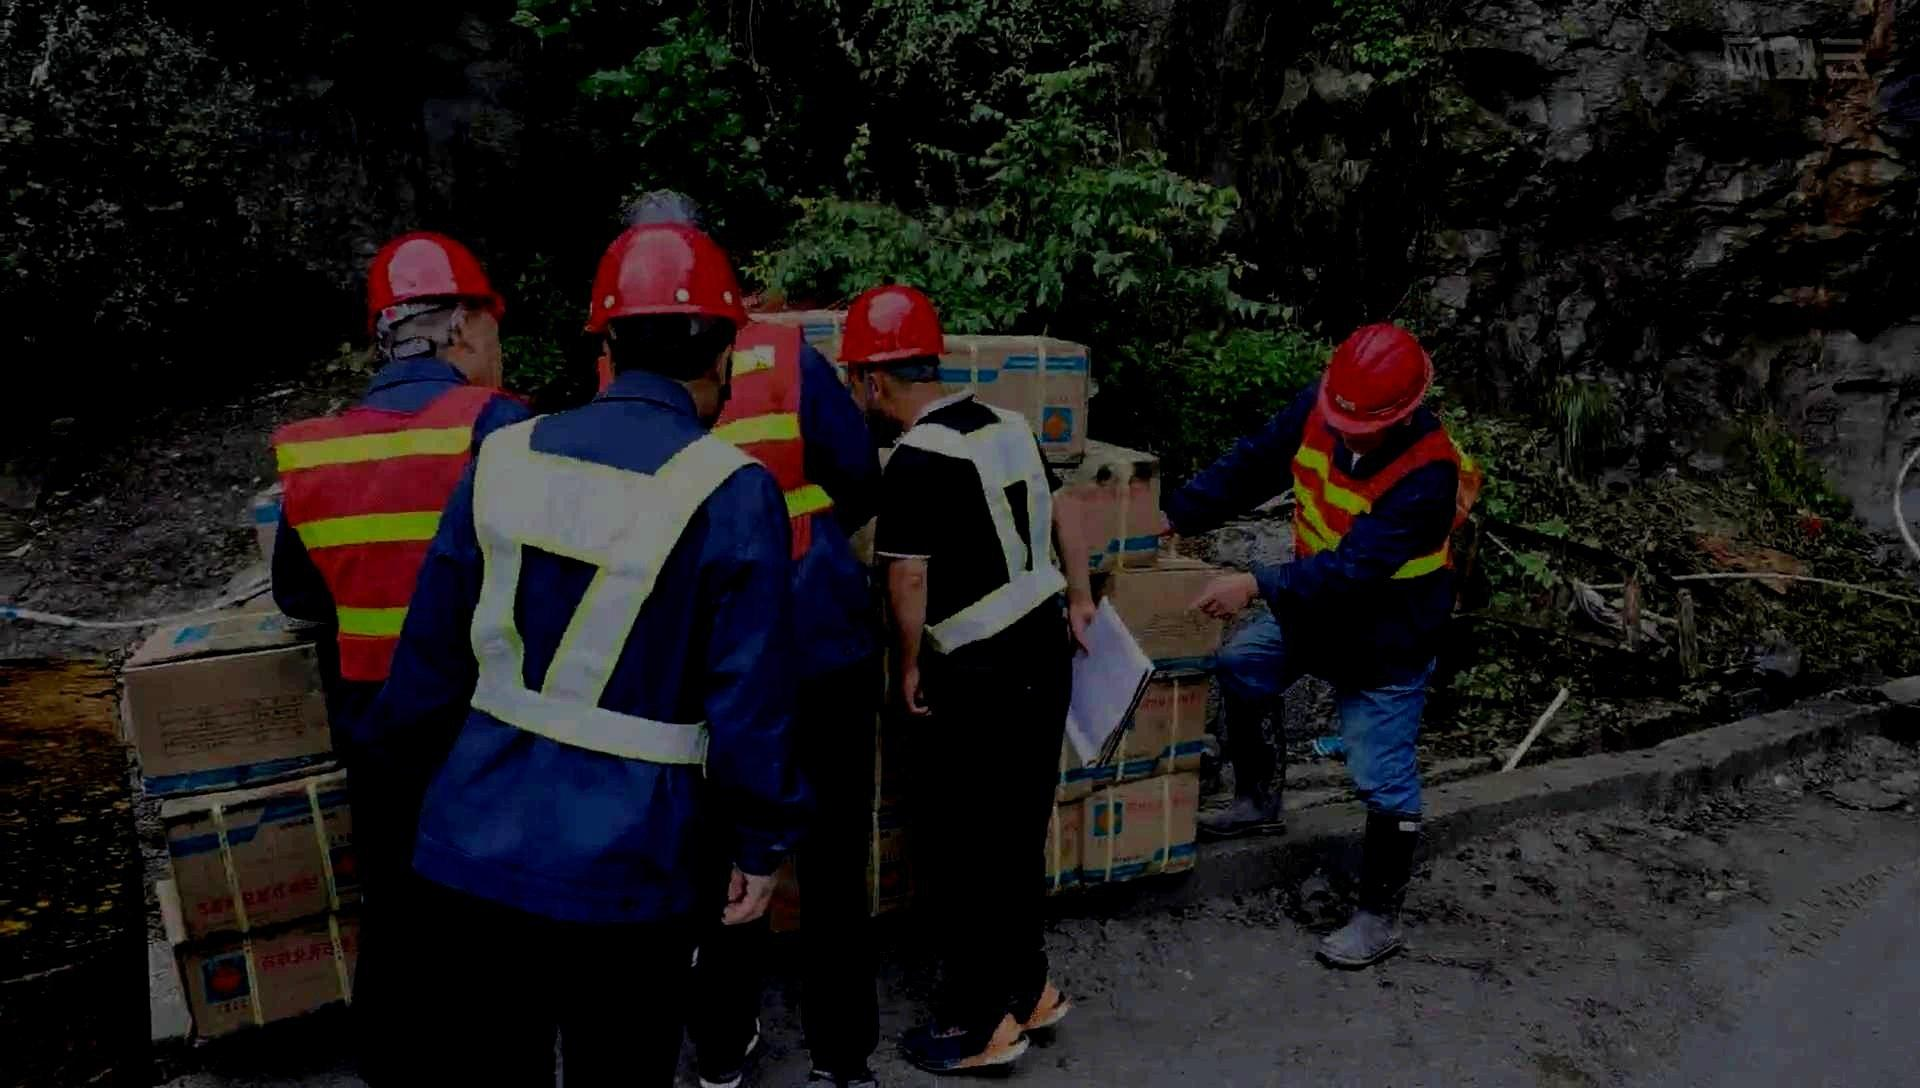helmet: (584, 216, 749, 434), (367, 228, 504, 392), (833, 284, 945, 425), (1317, 320, 1433, 455)
